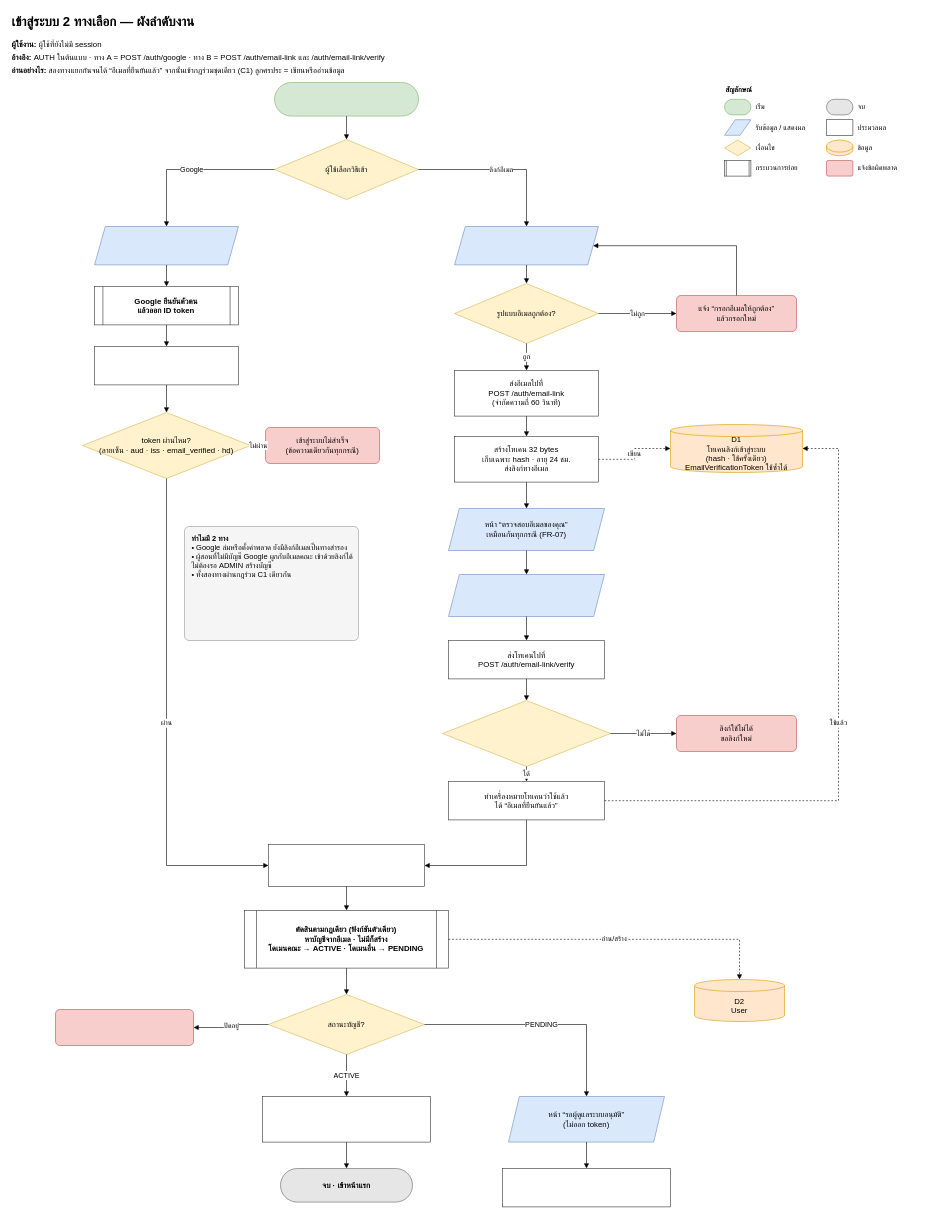
This 938x1217 diagram has some shape labels left out. The centre of each missing label's shape, as x and y in pixels:
ADMIN อนุมัติ PATCH /users/:id/approve (FR-08b): the point at 586,1187
กดปุ่ม Google · เลือกบัญชี: the point at 166,245
กรอกอีเมล: the point at 526,245
ปฏิเสธ บัญชีถูกปิด (isActive = false): the point at 124,1027
ผู้ใช้เปิดลิงก์ในอีเมล /auth/verify?token=…: the point at 526,595
ส่ง idToken ไปที่ POST /auth/google: the point at 166,365
ออก access token (15 นาที) และ refresh cookie (7 วัน) บันทึก AuthEvent: the point at 346,1119
เริ่ม · เปิดหน้าเข้าสู่ระบบ: the point at 346,99
โทเคนใช้ได้? (มีอยู่ · ยังไม่ใช้ · ไม่หมดอายุ): the point at 526,733
ได้ “อีเมลที่ยืนยันแล้ว” จากทางใดทางหนึ่ง: the point at 346,865
